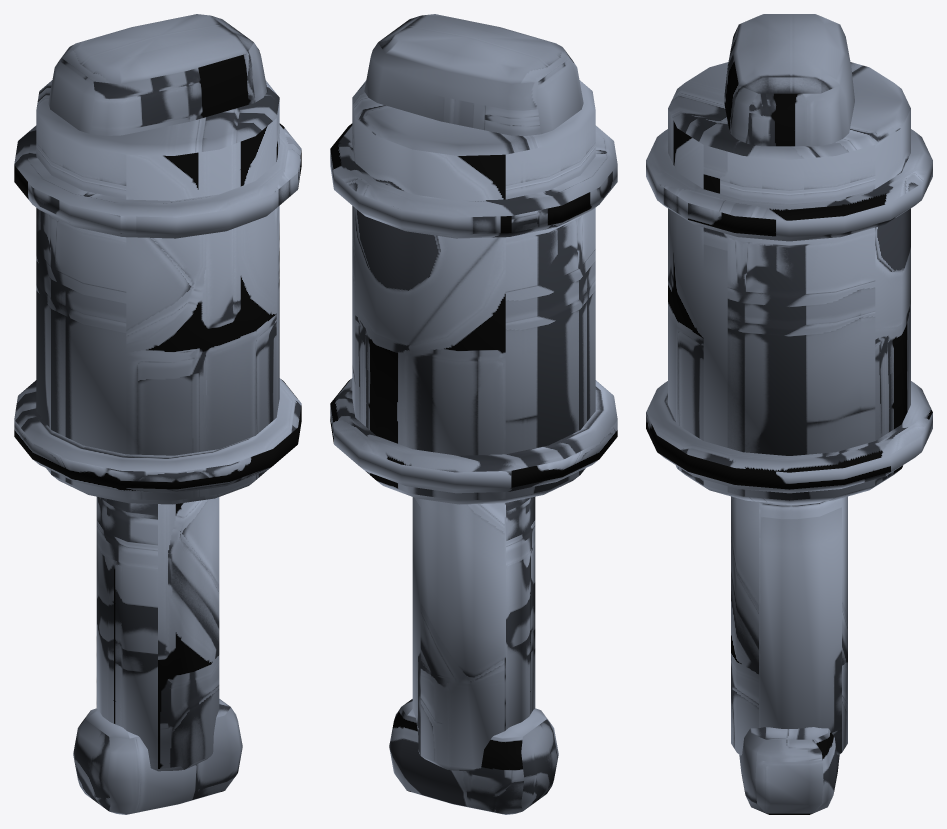
The model's file is Remache_PistonAntebrazoIzq.fbx.
3 views of the same model, side by side, from view 1: azimuth 30°, elevation 25°; view 2: azimuth 150°, elevation 25°; view 3: azimuth 270°, elevation 25° (orthographic).
Parts seen in each view (by area): view 1: Remache_PistonAntebrazoIzq; view 2: Remache_PistonAntebrazoIzq; view 3: Remache_PistonAntebrazoIzq.
Part boxes in pixels (x1,y1,x2,y2): Remache_PistonAntebrazoIzq: (14,14,301,814); Remache_PistonAntebrazoIzq: (330,14,617,814); Remache_PistonAntebrazoIzq: (646,14,932,814).
Bounding box in the file's own units: 0.59 × 1.71 × 0.59.
